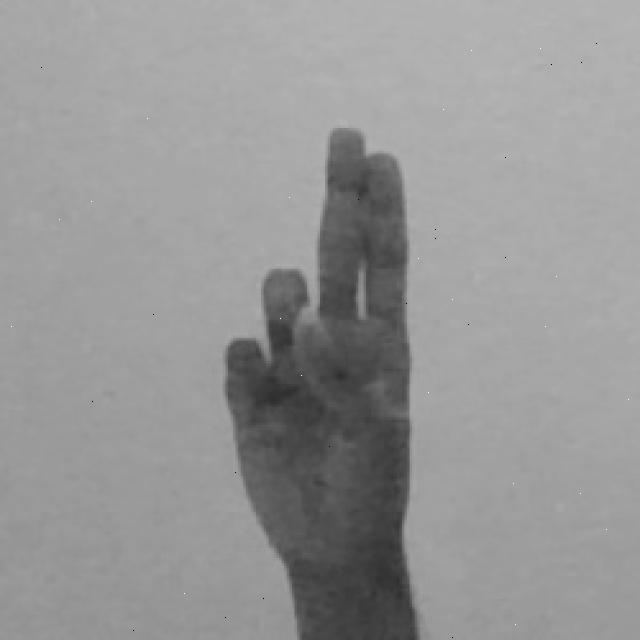U: (217, 123, 429, 640)
